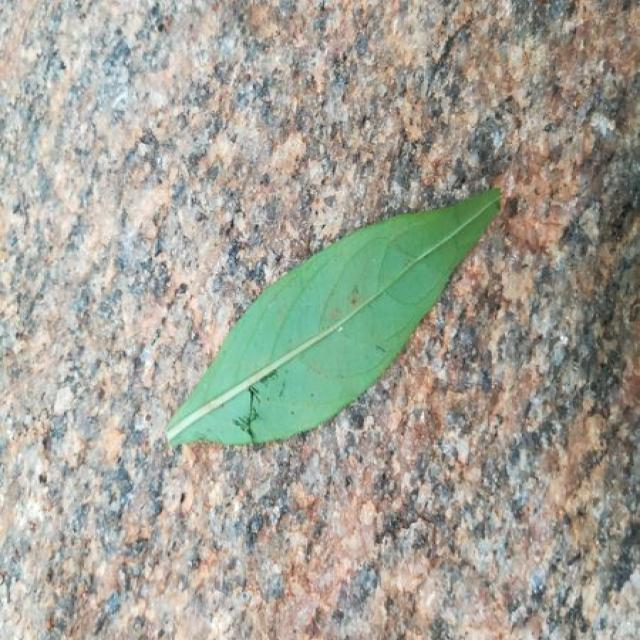Nelavembu: (167, 189, 502, 444)
